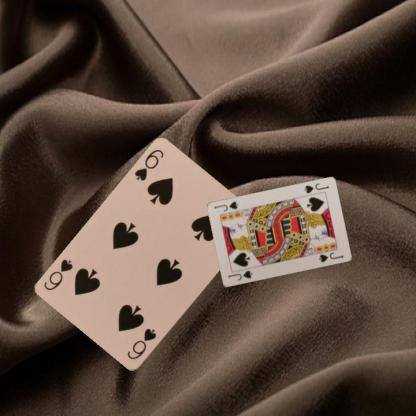6s: (124, 326, 158, 362), (132, 146, 165, 182)
Js: (302, 180, 330, 195), (225, 268, 254, 282)
